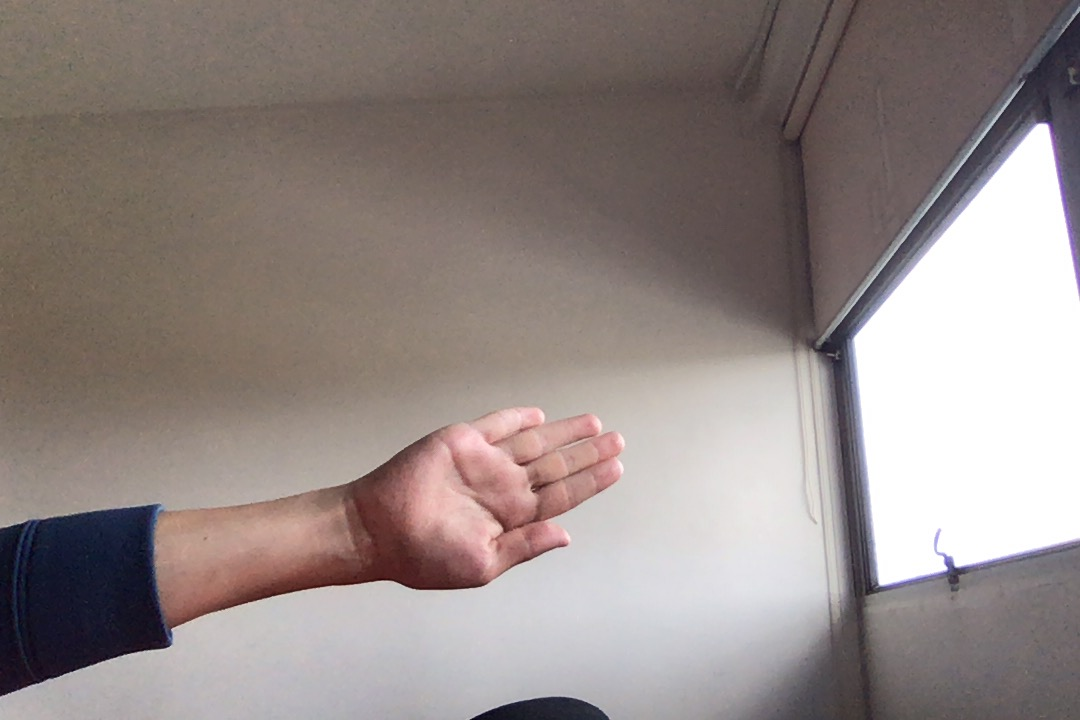palmhand: (363, 401, 630, 595)
